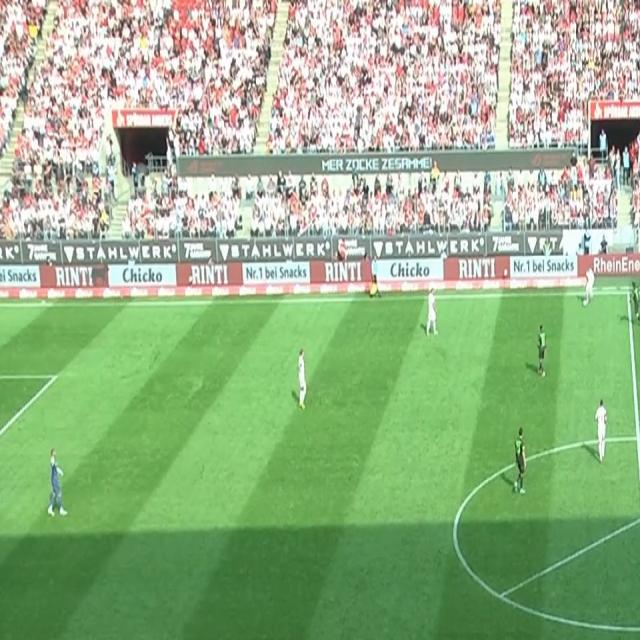ball: (582, 297, 588, 308)
